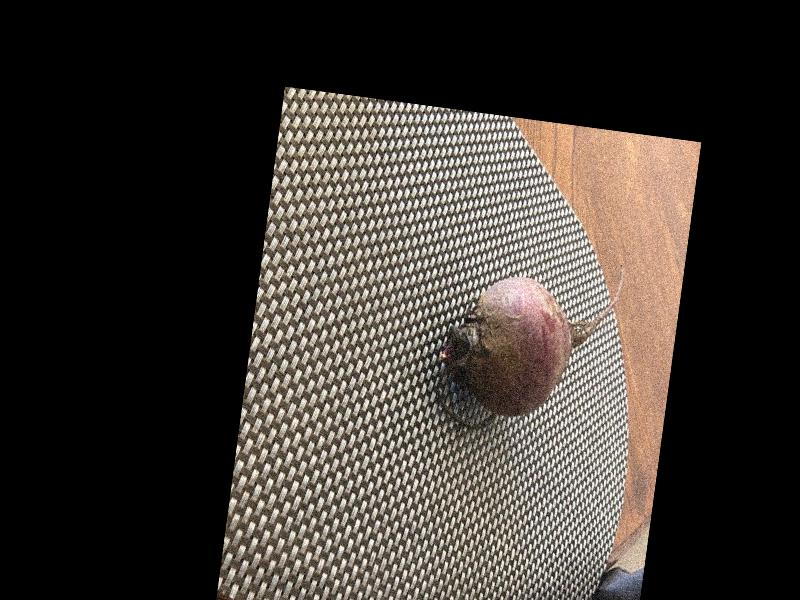Beet: (430, 244, 624, 447)
